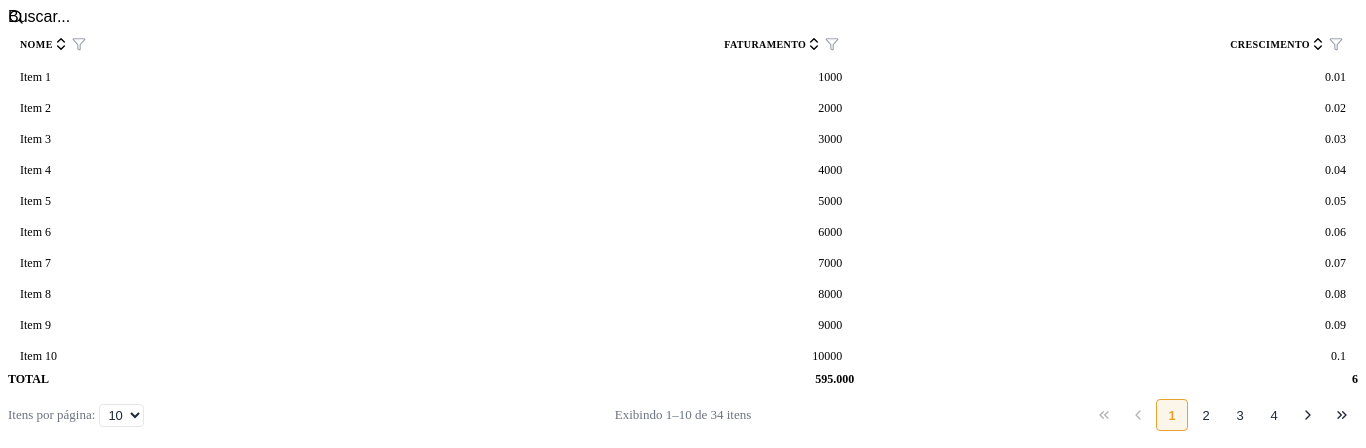
Scenario: DataTable › paginação › deve navegar para primeira e última página
What coordinates should you click on to do the following:
click the 8th button with class "data-table__page-btn"
I would click on:
 (1342, 415)
Its box is [1326,399,1358,431].
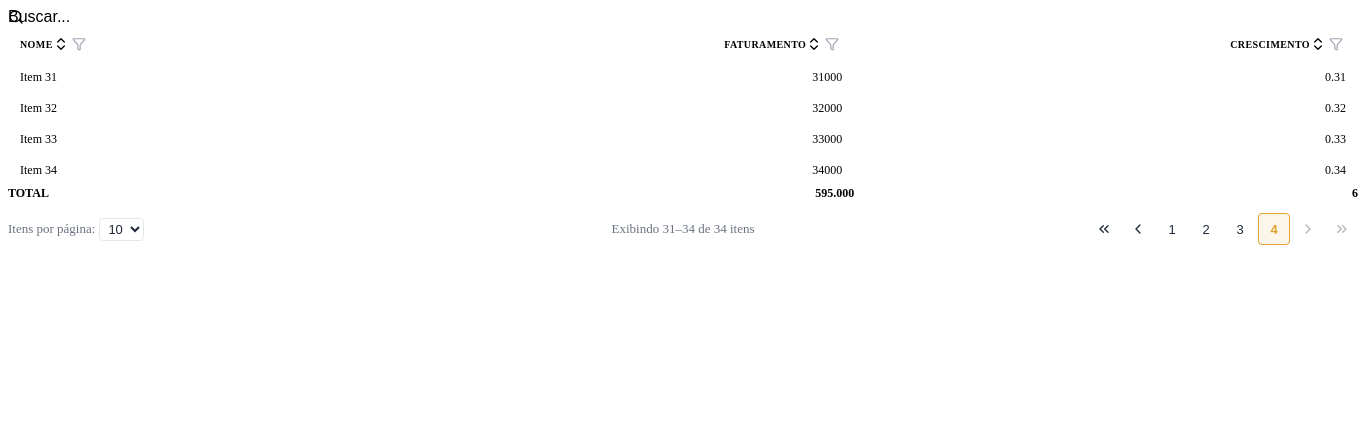
Result: the text "Item 31" is shown at [20,70,57,84]
What coordinates should you click on to do the following:
click the 1st button with class "data-table__page-btn"
I would click on:
 (1104, 229)
Its box is [1088,213,1120,245].
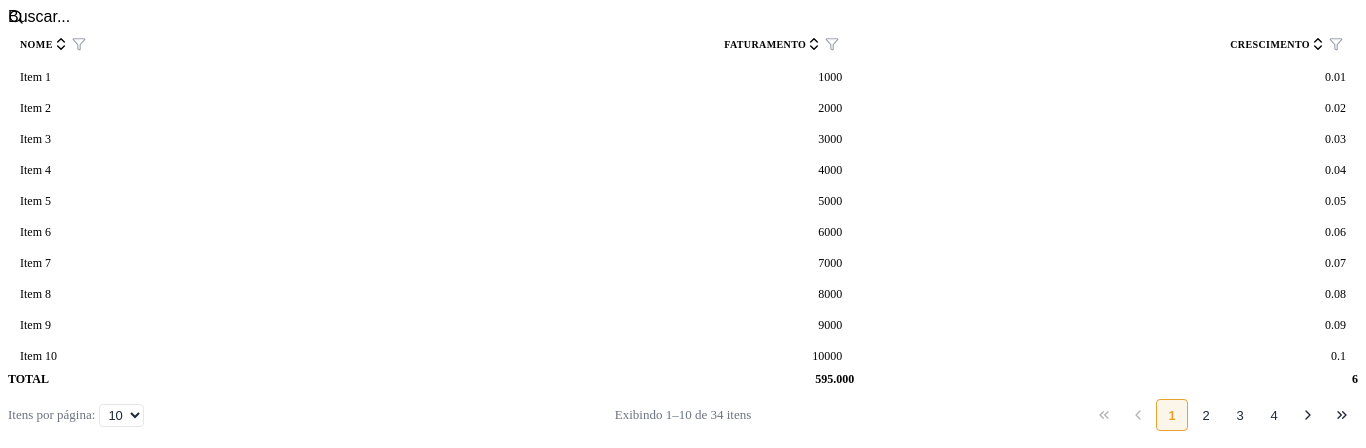
Result: the text "Item 1" is shown at [20,70,51,84]
